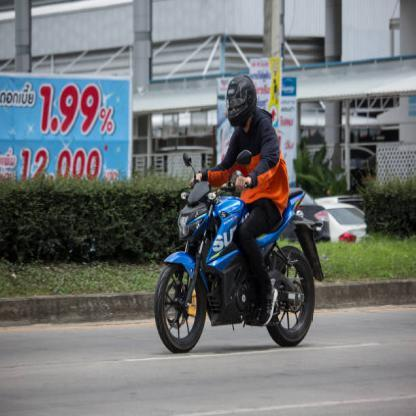Motorcycle: (148, 170, 326, 357)
